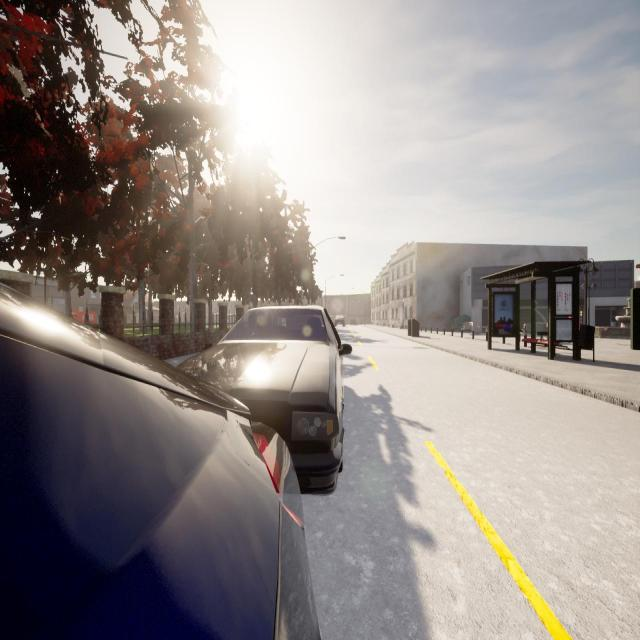Vehicle: (0, 287, 319, 640), (178, 306, 352, 495), (334, 314, 346, 327)
